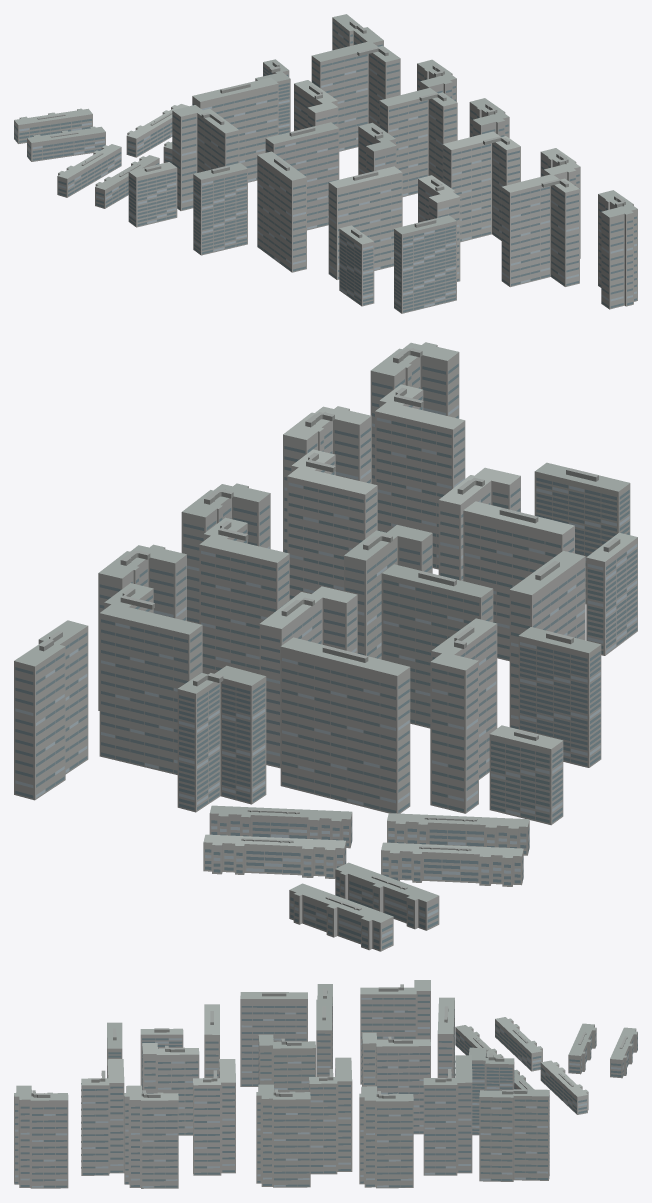
File: apt-a13984004.glb
3 renders of one model, top to bottom at view 1: azimuth 30°, elevation 25°; view 2: azimuth 150°, elevation 25°; view 3: azimuth 270°, elevation 25°, orthographic. The views are drawn at different scales.
Parts seen in each view (by area): view 1: apt-a13984004; view 2: apt-a13984004; view 3: apt-a13984004.
Part boxes in pixels (bbox=[...]): apt-a13984004: bbox=[14, 14, 637, 313]; apt-a13984004: bbox=[14, 342, 637, 951]; apt-a13984004: bbox=[14, 980, 637, 1188].
Size of the model in its own units: 275 by 78 by 472.
